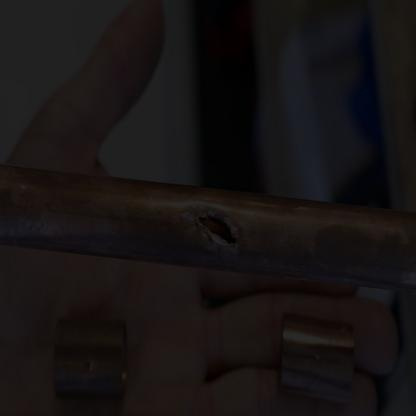burst: (173, 204, 242, 249)
